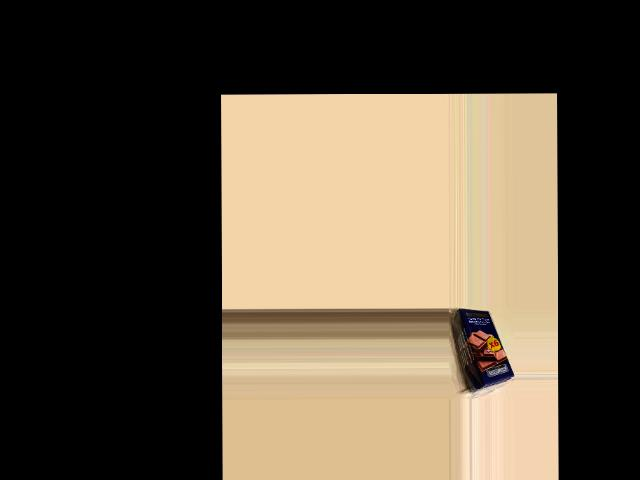chocolate: (453, 308, 515, 387)
